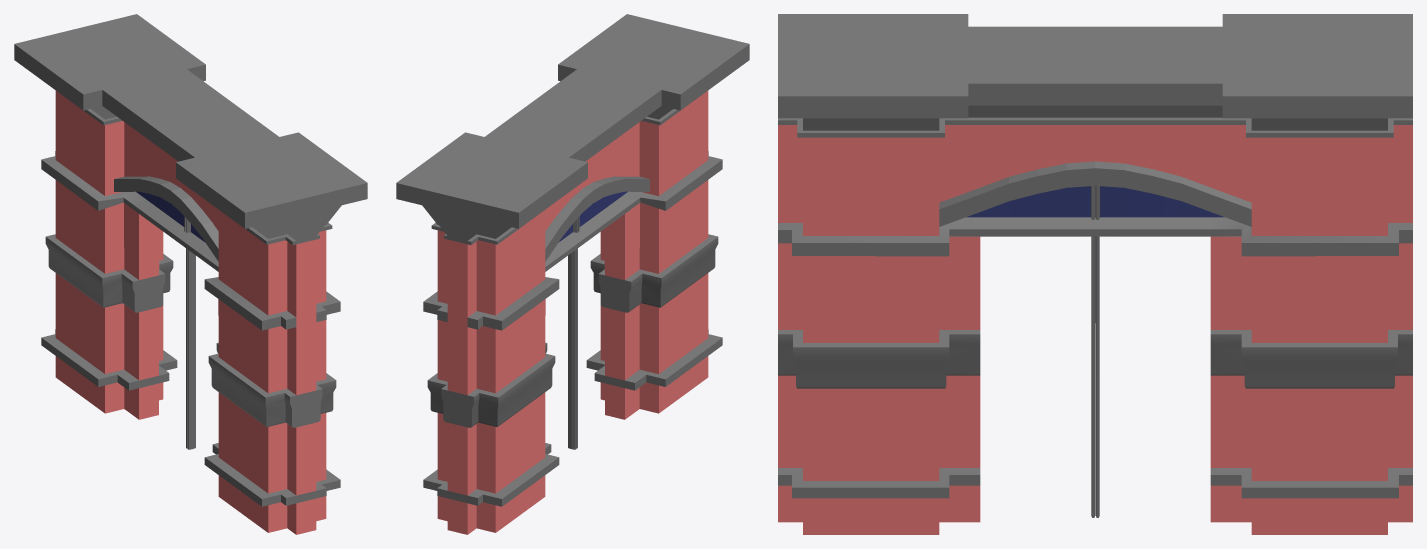
File: DoorLondonGeorgian1st.fbx
3 renders of one model, left to right at view 1: azimuth 30°, elevation 25°; view 2: azimuth 150°, elevation 25°; view 3: azimuth 270°, elevation 25°, orthographic. The views are drawn at different scales.
Parts seen in each view (by area): view 1: Base001; view 2: Base001; view 3: Base001.
Part boxes in pixels (bbox=[...]): Base001: bbox=[14, 14, 367, 534]; Base001: bbox=[396, 14, 749, 534]; Base001: bbox=[778, 14, 1412, 534].
Size of the model in its own units: 1.53 by 4 by 5.
